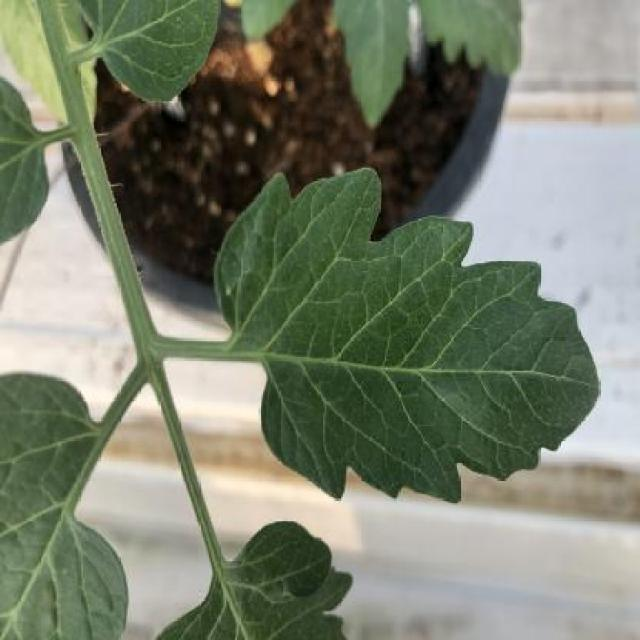Healthy: (215, 167, 600, 504)
